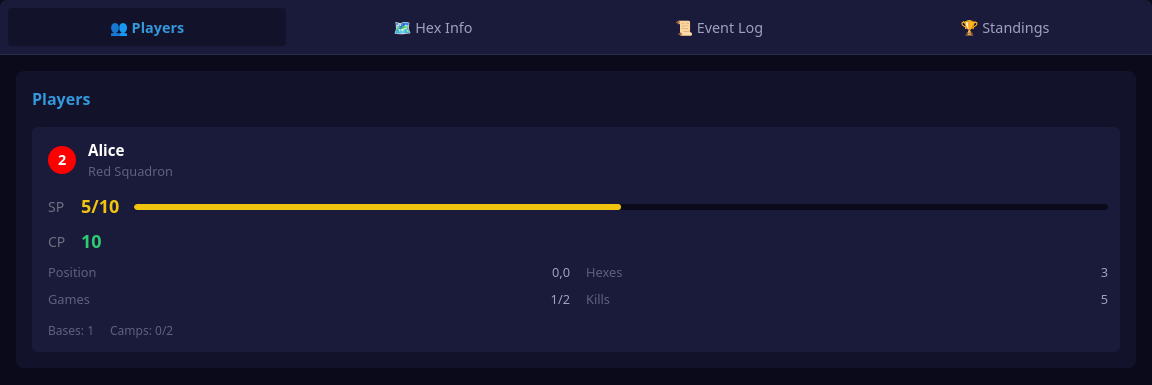
LeftMenuTabs › when rendering tab content › should display hex info message when Hex Info tab is active but no hex selected
This screenshot has width=1152, height=385.
Click the tab "🗺️ Hex Info" at (433, 27), box 294,8 -> 572,46
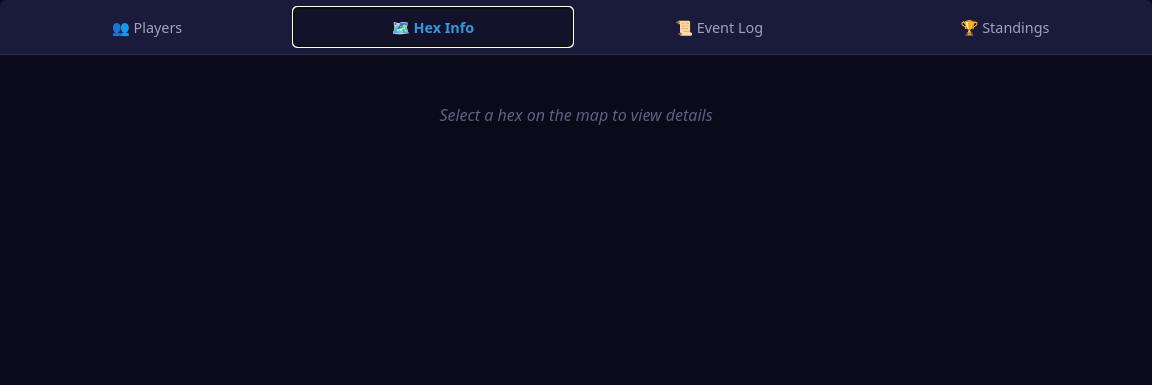
Now the text "Select a hex on the map to view details" is shown, box 439,104 -> 713,126
